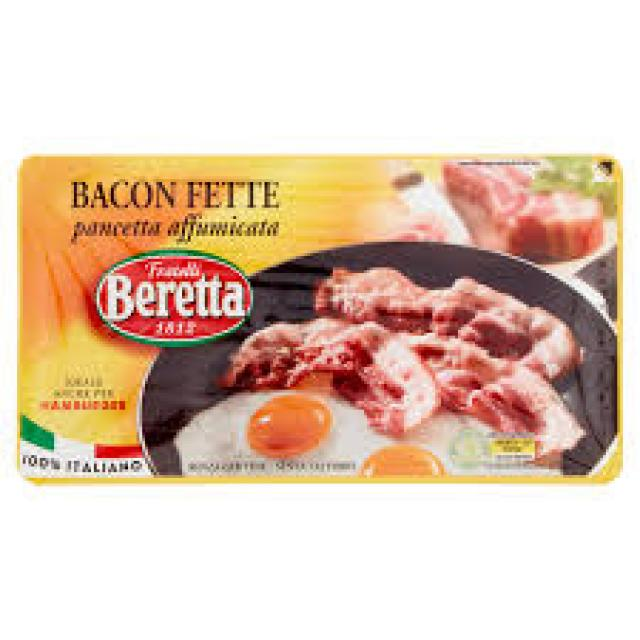ham: (14, 135, 624, 485)
